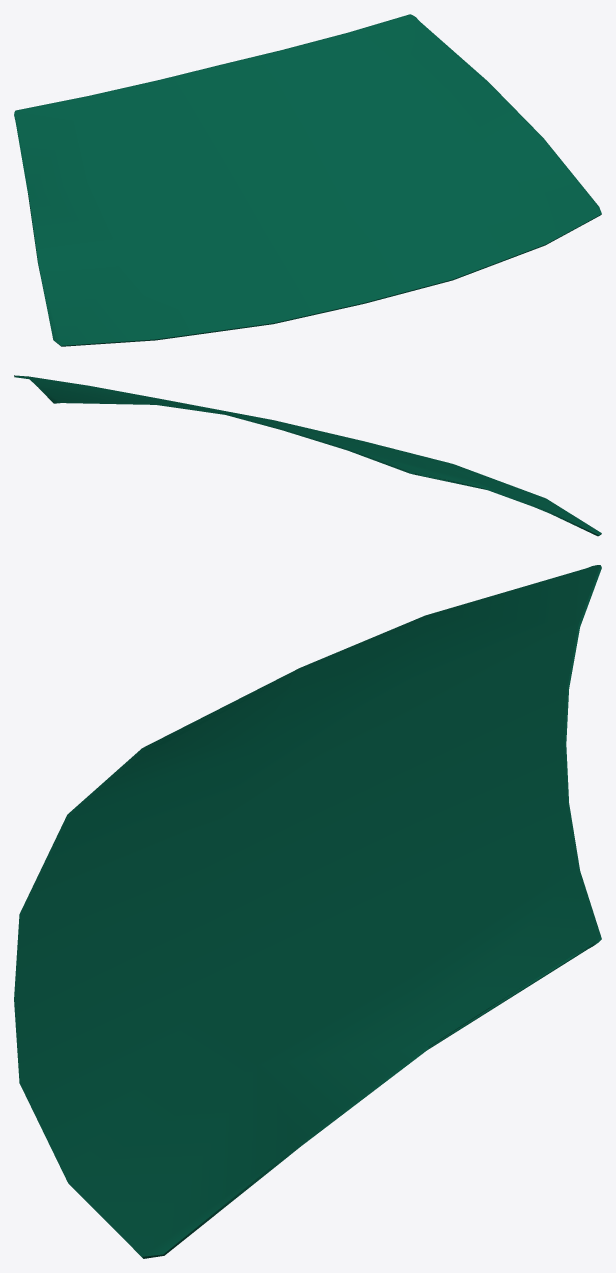
File: carwindow.fbx
The picture shows the model from 3 angles, top to bottom: view 1: azimuth 30°, elevation 25°; view 2: azimuth 150°, elevation 25°; view 3: azimuth 270°, elevation 25°; orthographic projection. The views are drawn at different scales.
Visible parts, largest first — view 1: Line020; view 2: Line020; view 3: Line020.
Part boxes in pixels (x1,y1,x2,y2): Line020: [14, 14, 601, 346]; Line020: [14, 375, 601, 536]; Line020: [14, 565, 601, 1258].
Size of the model in its own units: 148 by 35.43 by 71.69.
